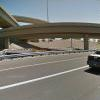Bridge: (5, 6, 98, 47)
